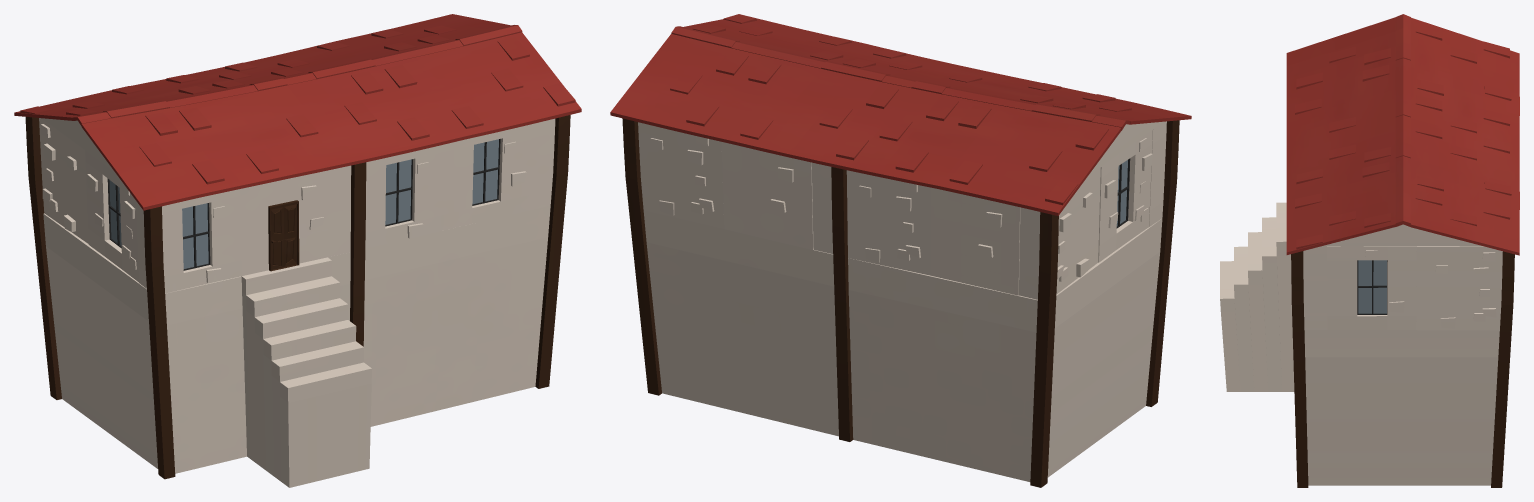
File: 7 skewed - col.glb
The picture shows the model from 3 angles, left to right: view 1: azimuth 30°, elevation 25°; view 2: azimuth 150°, elevation 25°; view 3: azimuth 270°, elevation 25°; orthographic projection. The views are drawn at different scales.
Visible parts, largest first — view 1: 7 skewed - col.001; view 2: 7 skewed - col.001; view 3: 7 skewed - col.001.
Boxes of the visible parts, bbox=[...] form: 7 skewed - col.001: bbox=[14, 14, 581, 487]; 7 skewed - col.001: bbox=[610, 14, 1191, 487]; 7 skewed - col.001: bbox=[1220, 14, 1519, 487].
Size of the model in its own units: 29.95 by 21.21 by 19.65.
Materials: 3 (1 with a texture image).
